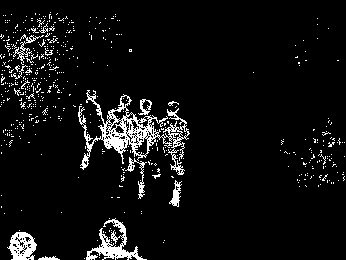person: (162, 101, 193, 204), (135, 95, 160, 204), (78, 85, 104, 169), (110, 91, 132, 186)
